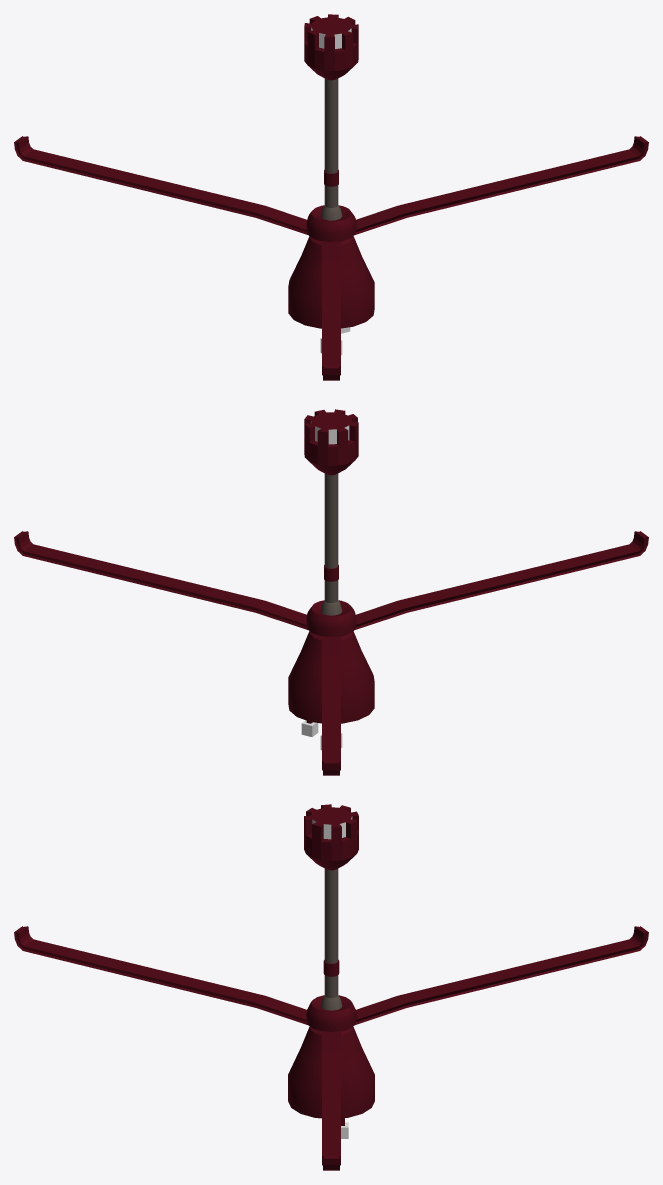
The model's file is fan9.glb.
3 renders of one model, top to bottom at view 1: azimuth 30°, elevation 25°; view 2: azimuth 150°, elevation 25°; view 3: azimuth 270°, elevation 25°, orthographic.
Visible parts, largest first — view 1: Fan9_Tris; view 2: Fan9_Tris; view 3: Fan9_Tris.
Part boxes in pixels (bbox=[...]): Fan9_Tris: bbox=[14, 14, 648, 380]; Fan9_Tris: bbox=[14, 409, 648, 775]; Fan9_Tris: bbox=[14, 804, 648, 1170].
Size of the model in its own units: 3.49 by 2.3 by 4.03.
